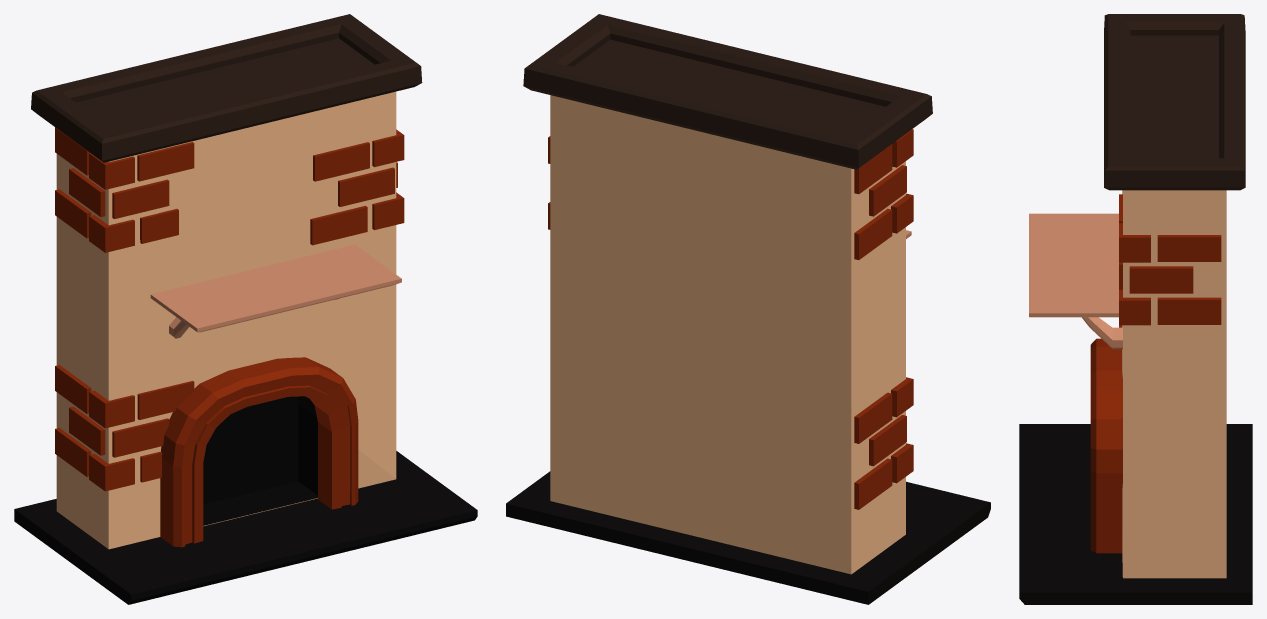
Rendered from Prop_Fireplace.fbx.
The picture shows the model from 3 angles, left to right: view 1: azimuth 30°, elevation 25°; view 2: azimuth 150°, elevation 25°; view 3: azimuth 270°, elevation 25°; orthographic projection. The views are drawn at different scales.
Parts seen in each view (by area): view 1: Prop_Fireplace; view 2: Prop_Fireplace; view 3: Prop_Fireplace.
Boxes of the visible parts, box(x1,y1,x2,y2) form: Prop_Fireplace: box(14, 14, 477, 604); Prop_Fireplace: box(506, 14, 990, 604); Prop_Fireplace: box(1019, 14, 1252, 604).
Bounding box in the file's own units: 156 × 185 × 91.06.
